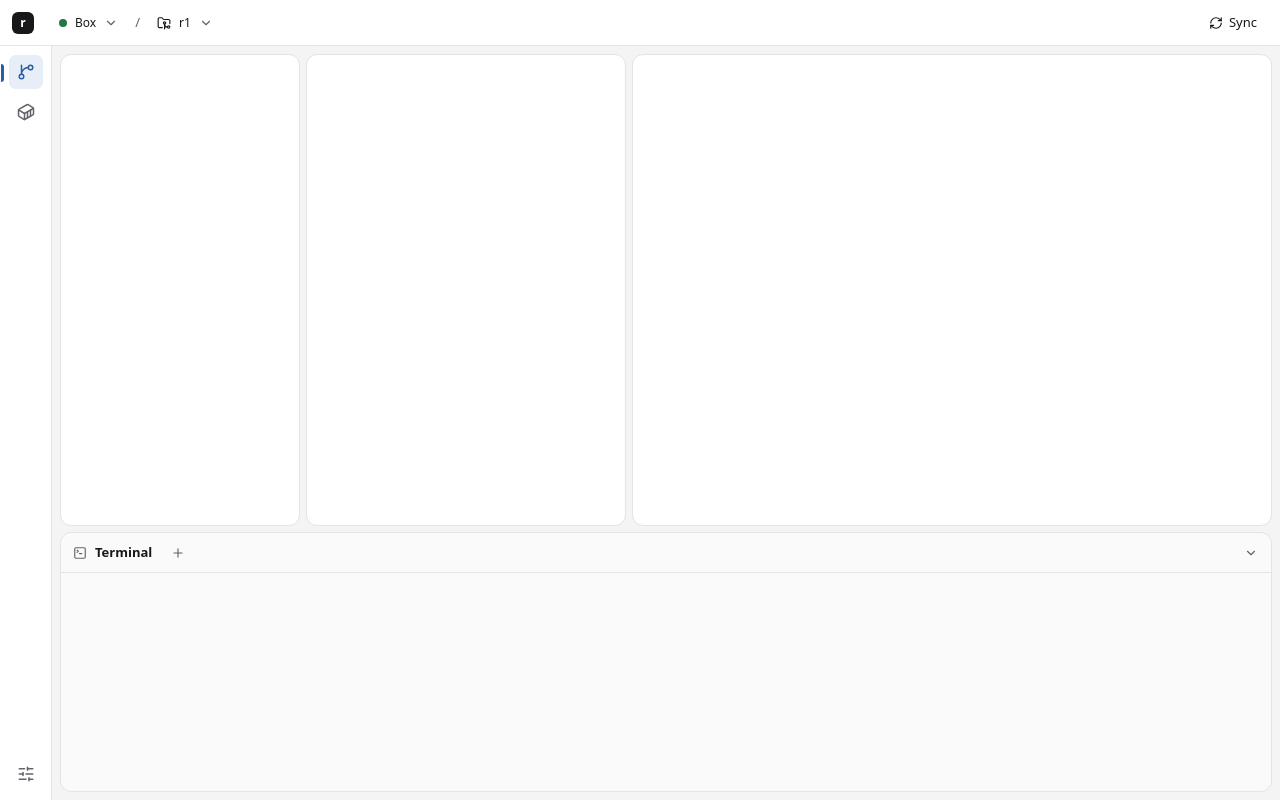
App with a workspace › shows the branches pane and the terminal bar with a collapse toggle
Click the button named "Collapse terminal" at (1251, 552), box x1=1237 y1=538 x2=1265 y2=566
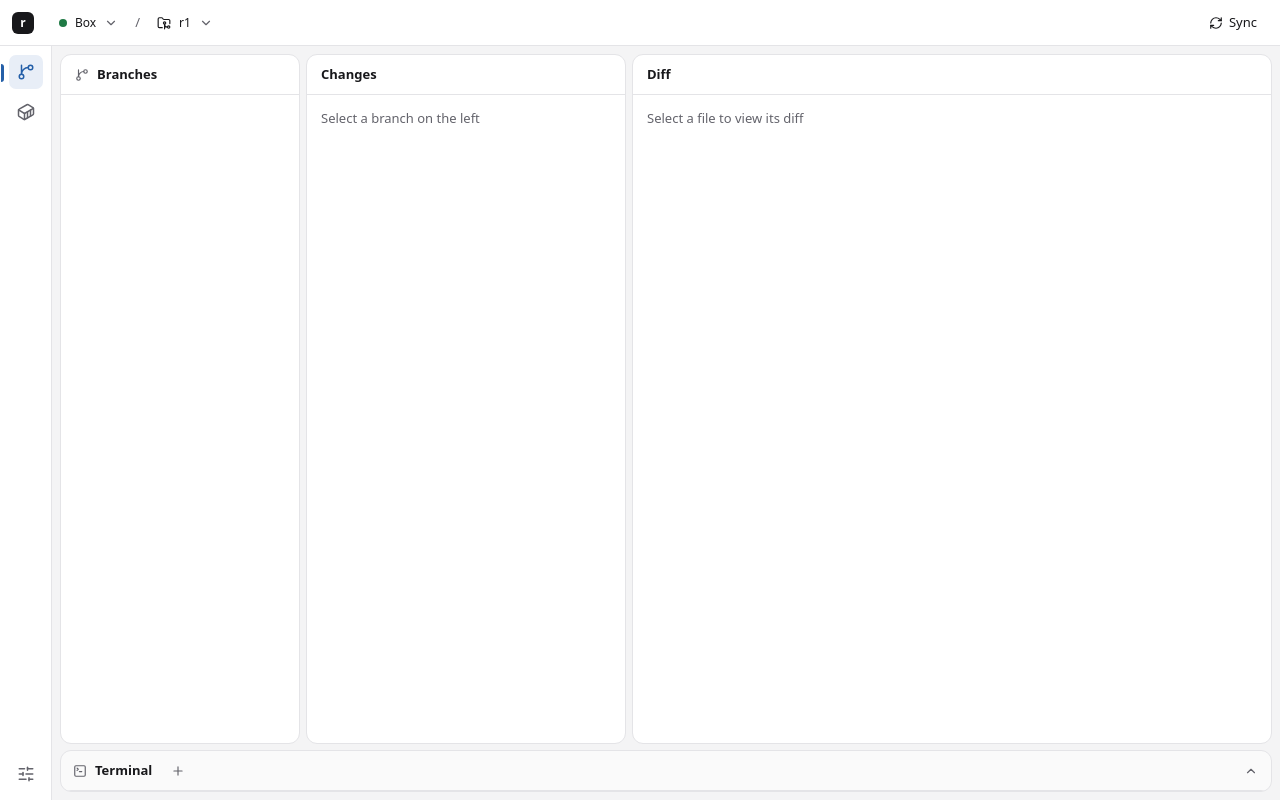
Expected: the button named "Expand terminal" is shown, x1=1237 y1=756 x2=1265 y2=784
